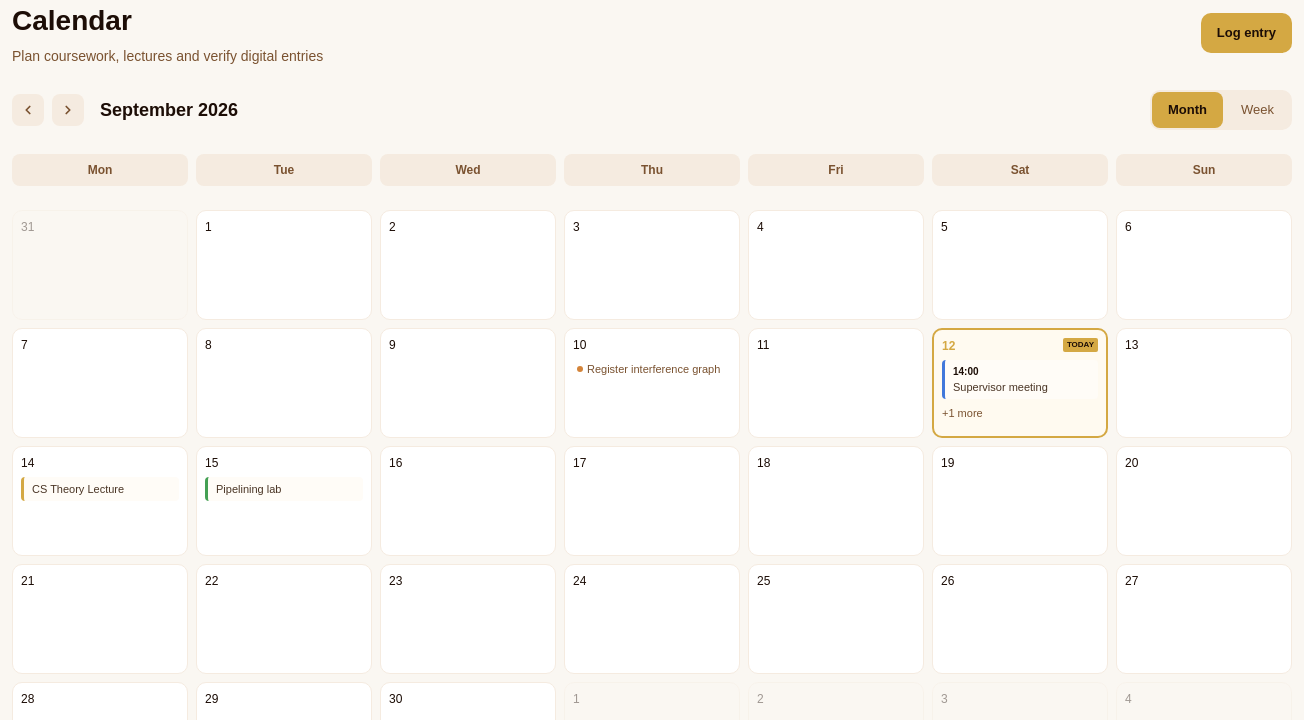
Scenario: CalendarPage › places events and entries on their hour in the week view
Click the button "Week".
click(1258, 110)  # box [1225,92,1290,128]
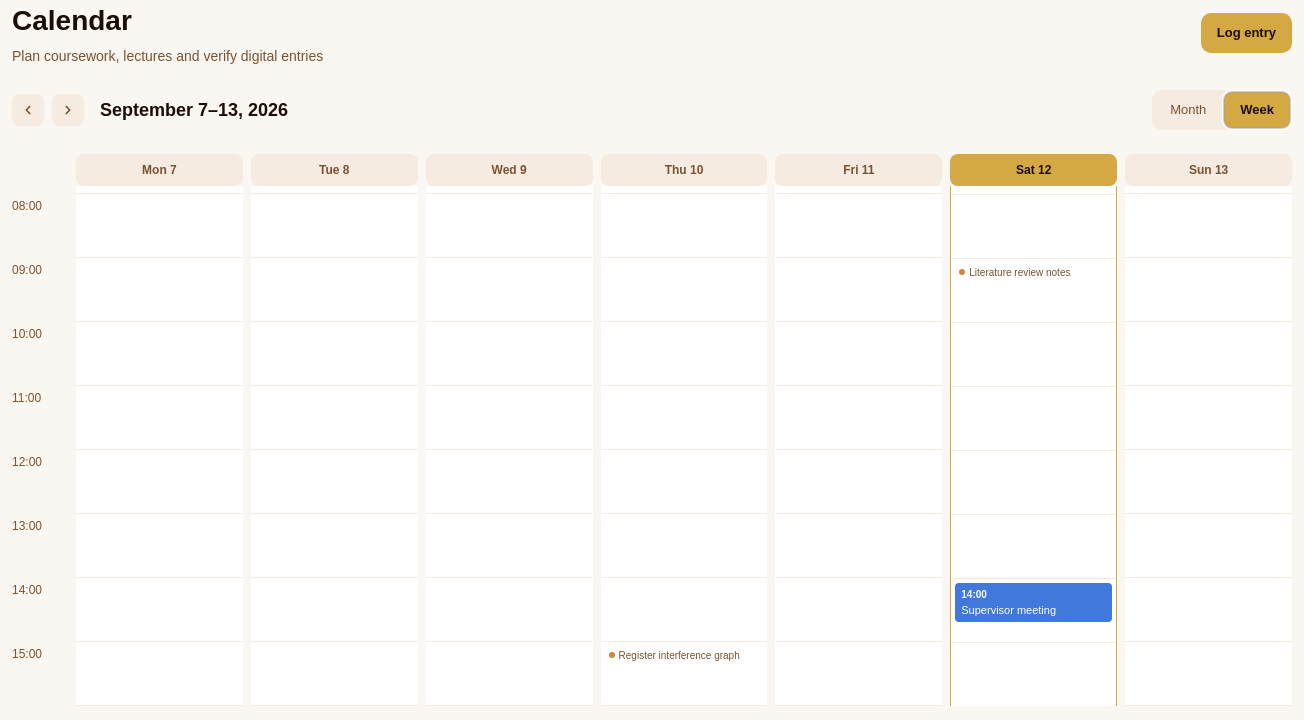
Expected: the text "Supervisor meeting" is shown, [961,604,1056,616]
Now the text "Literature review notes" is shown, box [969,264,1070,280]
